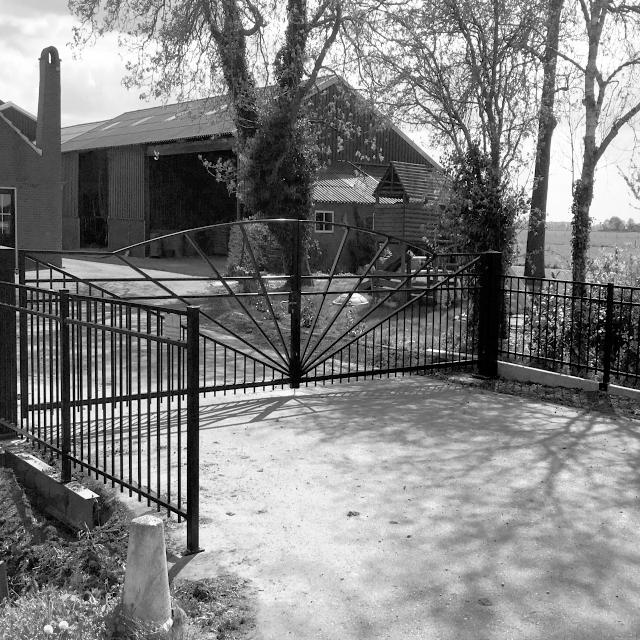fences: (230, 268, 640, 393), (20, 271, 209, 505)
